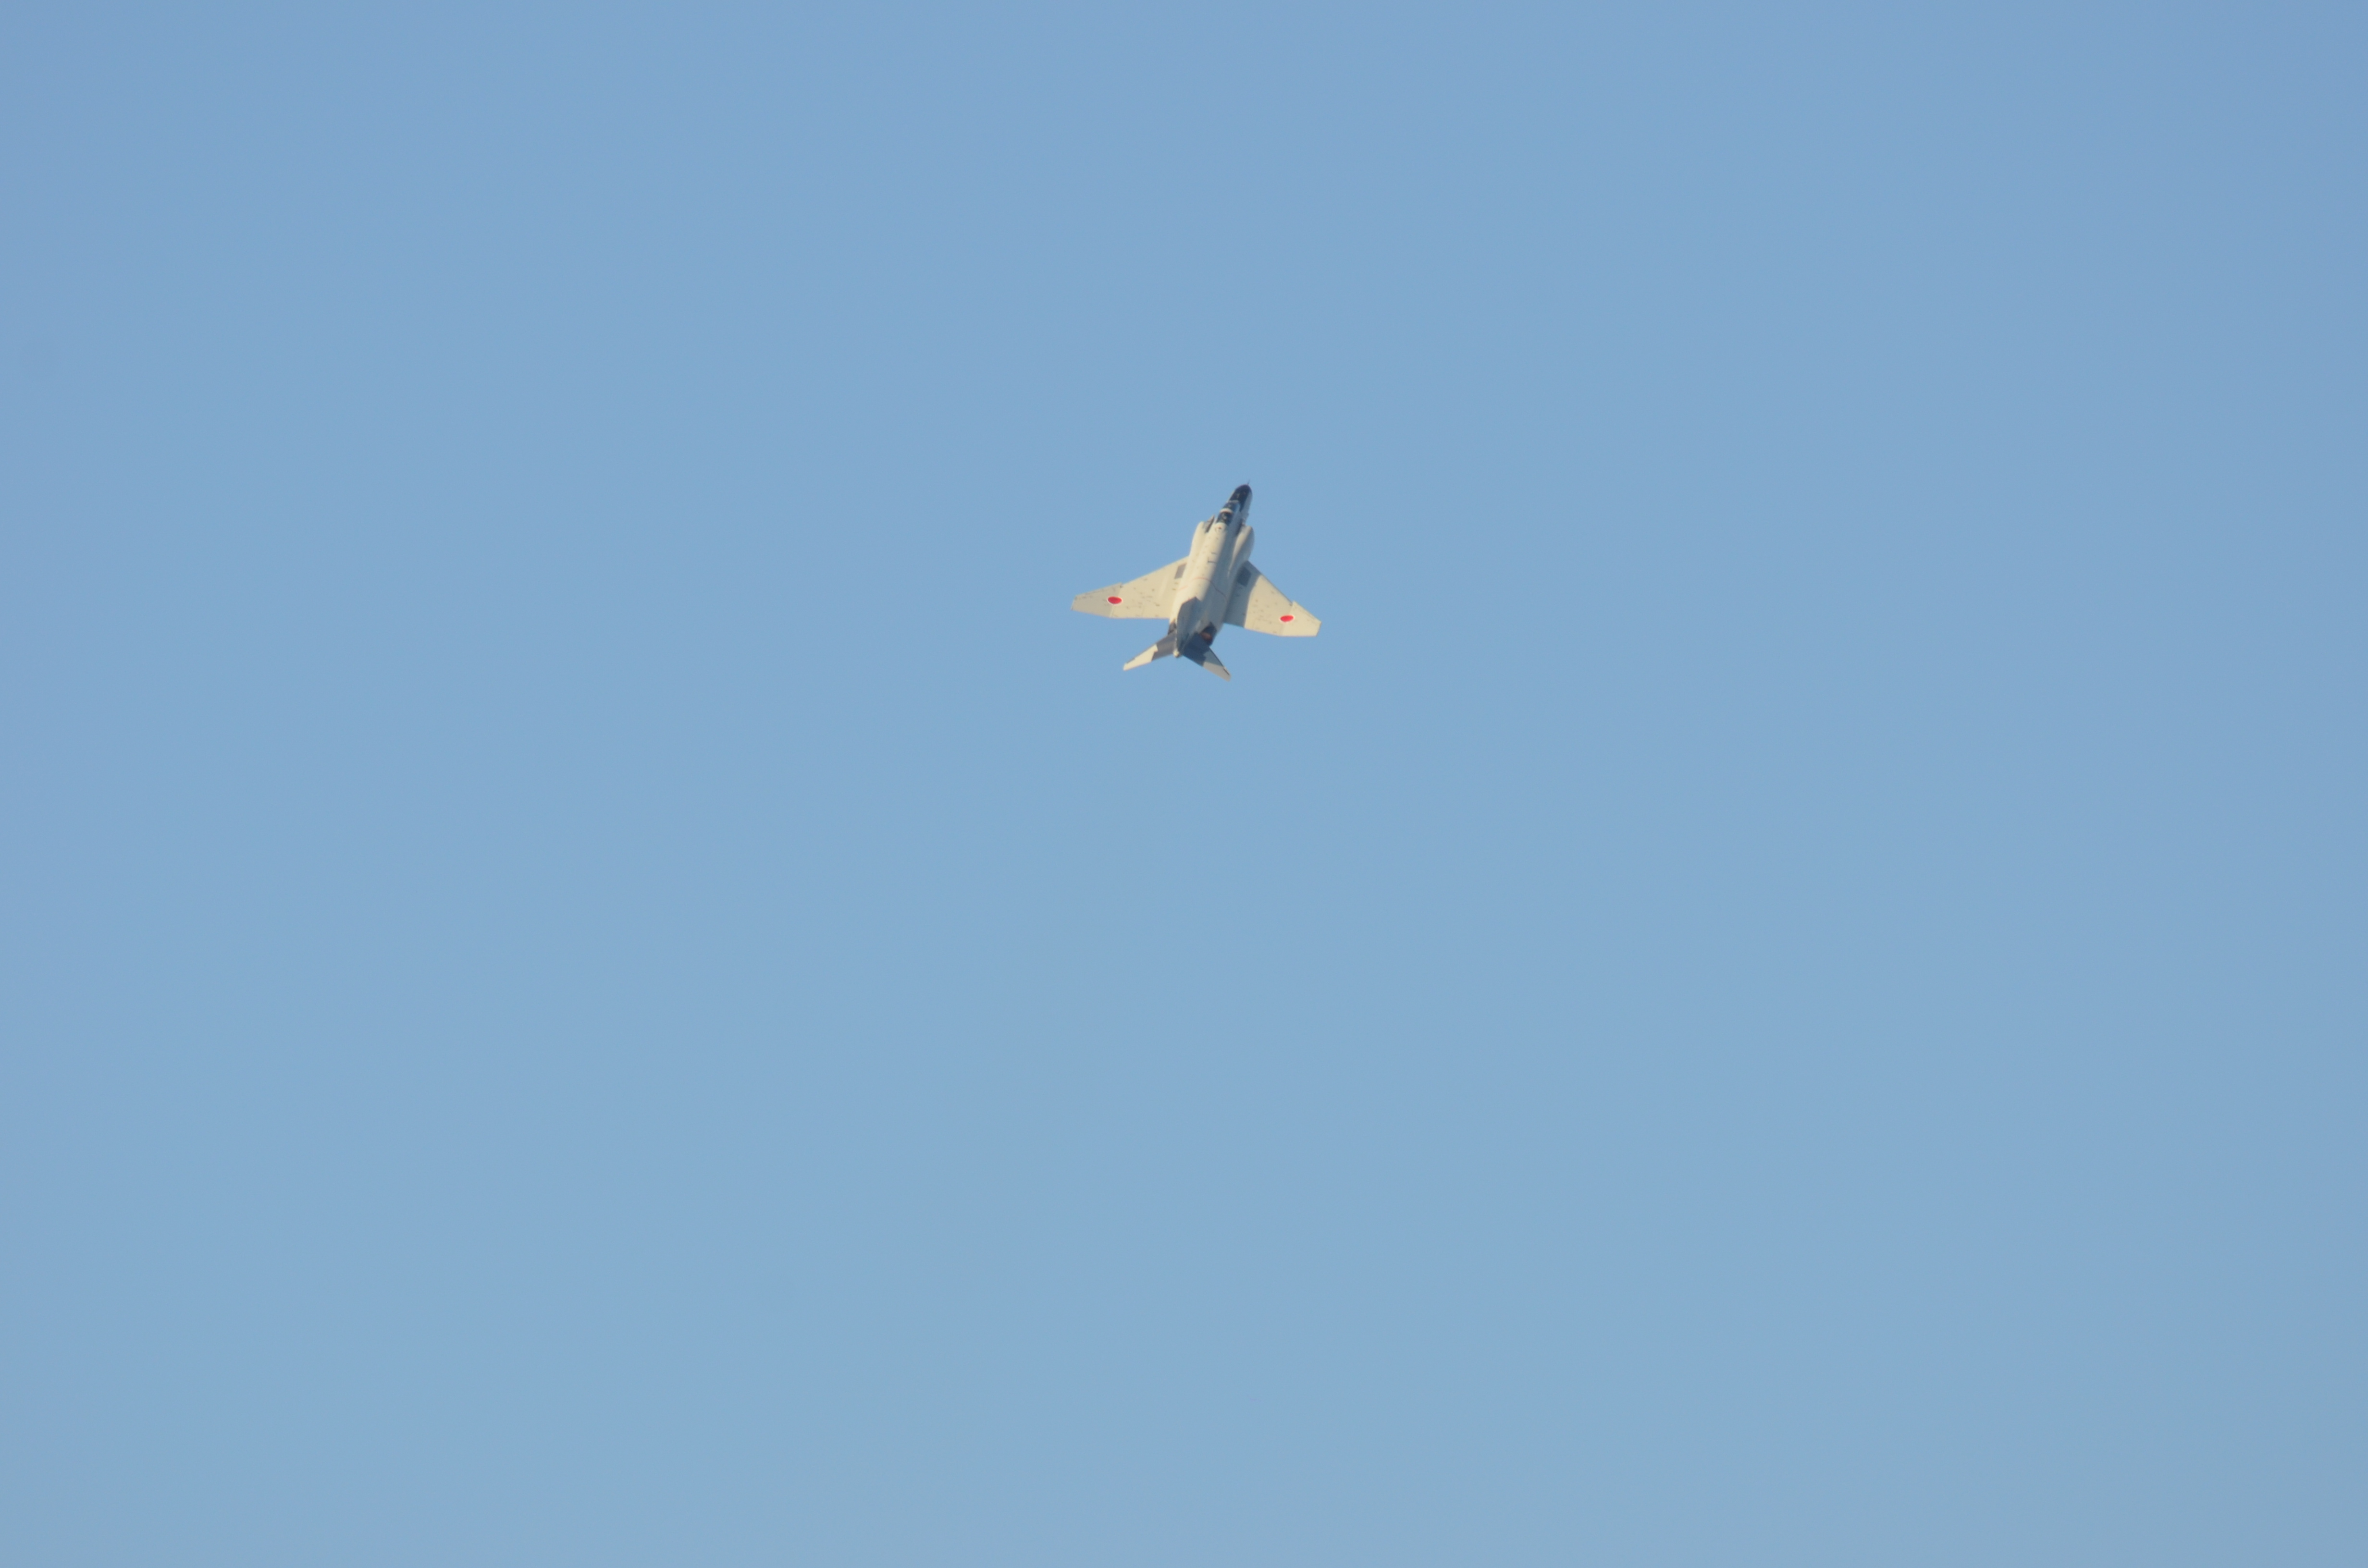F4: (1069, 478, 1323, 682)
